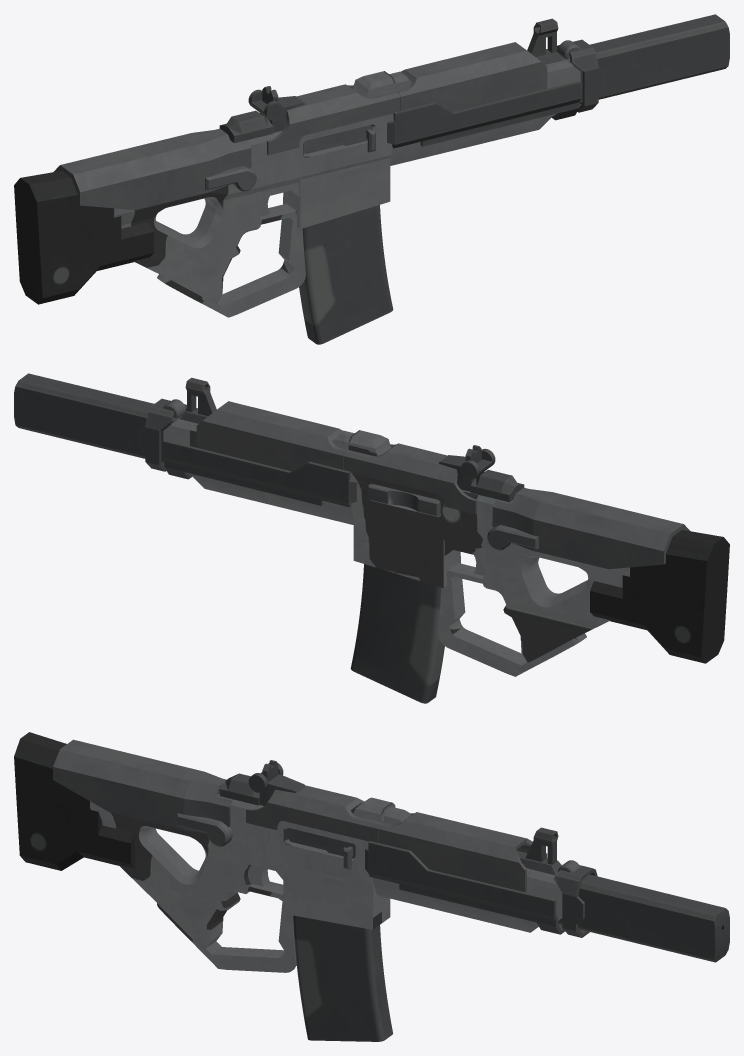
3 views of the same model, one above another, from view 1: azimuth 30°, elevation 25°; view 2: azimuth 150°, elevation 25°; view 3: azimuth 330°, elevation 25° (orthographic).
Visible parts, largest first — view 1: body_lo_Material_0, stock_lo_ADD_0, add1_lo_ADD_0, plate_lo_ADD_0, clip_lo_Scope_0, add2_lo_Scope_0, silencer_lo_Scope_0, hold_lo_Material_0, fromt_lo_Material_0, reflex_lo_Scope_0, charge_lo_ADD_0, hip_lo_Scope_0; view 2: body_lo_Material_0, stock_lo_ADD_0, add1_lo_ADD_0, plate_lo_ADD_0, clip_lo_Scope_0, add2_lo_Scope_0, silencer_lo_Scope_0, hold_lo_Material_0, fromt_lo_Material_0, reflex_lo_Scope_0, charge_lo_ADD_0, hip_lo_Scope_0; view 3: body_lo_Material_0, add1_lo_ADD_0, plate_lo_ADD_0, clip_lo_Scope_0, stock_lo_ADD_0, silencer_lo_Scope_0, add2_lo_Scope_0, fromt_lo_Material_0, hold_lo_Material_0, reflex_lo_Scope_0, hip_lo_Scope_0, charge_lo_ADD_0.
Boxes of the visible parts, box(x1,y1,x2,y2) form: body_lo_Material_0: box(114, 71, 411, 303); stock_lo_ADD_0: box(14, 171, 153, 304); add1_lo_ADD_0: box(266, 42, 547, 155); plate_lo_ADD_0: box(54, 128, 256, 209); clip_lo_Scope_0: box(299, 205, 393, 344); add2_lo_Scope_0: box(387, 39, 605, 148); silencer_lo_Scope_0: box(561, 14, 729, 104); hold_lo_Material_0: box(157, 218, 305, 317); fromt_lo_Material_0: box(390, 58, 580, 165); reflex_lo_Scope_0: box(219, 86, 305, 143); charge_lo_ADD_0: box(303, 125, 375, 153); hip_lo_Scope_0: box(527, 18, 564, 64); body_lo_Material_0: box(332, 430, 629, 662); stock_lo_ADD_0: box(590, 530, 729, 663); add1_lo_ADD_0: box(196, 401, 477, 514); plate_lo_ADD_0: box(487, 487, 690, 569); clip_lo_Scope_0: box(350, 564, 444, 703); add2_lo_Scope_0: box(138, 398, 356, 507); silencer_lo_Scope_0: box(14, 373, 182, 463); hold_lo_Material_0: box(438, 577, 586, 676); fromt_lo_Material_0: box(163, 418, 353, 524); reflex_lo_Scope_0: box(438, 445, 524, 502); charge_lo_ADD_0: box(368, 484, 440, 516); hip_lo_Scope_0: box(179, 377, 216, 423); body_lo_Material_0: box(90, 793, 410, 948); add1_lo_ADD_0: box(246, 785, 547, 892); plate_lo_ADD_0: box(53, 739, 232, 846); clip_lo_Scope_0: box(293, 915, 393, 1041); stock_lo_ADD_0: box(14, 732, 134, 870); silencer_lo_Scope_0: box(558, 874, 729, 962); add2_lo_Scope_0: box(365, 841, 597, 937); fromt_lo_Material_0: box(373, 868, 562, 932); hold_lo_Material_0: box(157, 902, 296, 972); reflex_lo_Scope_0: box(219, 760, 305, 805); hip_lo_Scope_0: box(517, 827, 561, 875); charge_lo_ADD_0: box(286, 828, 355, 869).
Size of the model in its own units: 0.9 by 0.3236 by 0.0682.
Materials: 3 (3 with a texture image).
